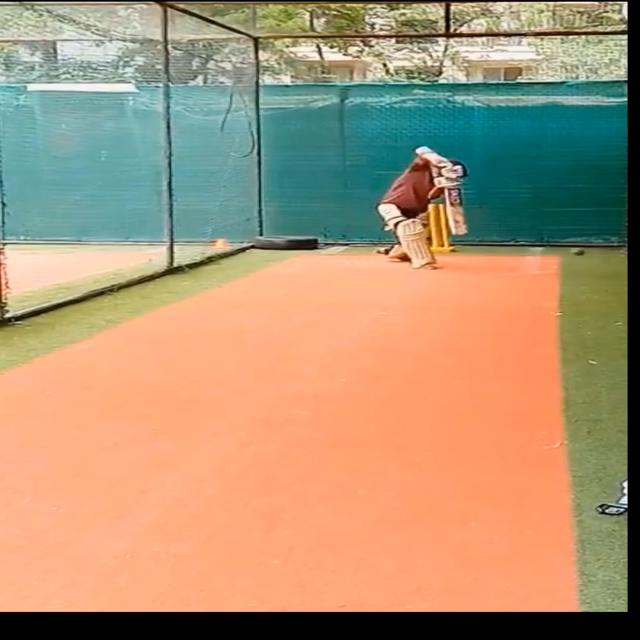ball: (567, 247, 589, 259)
